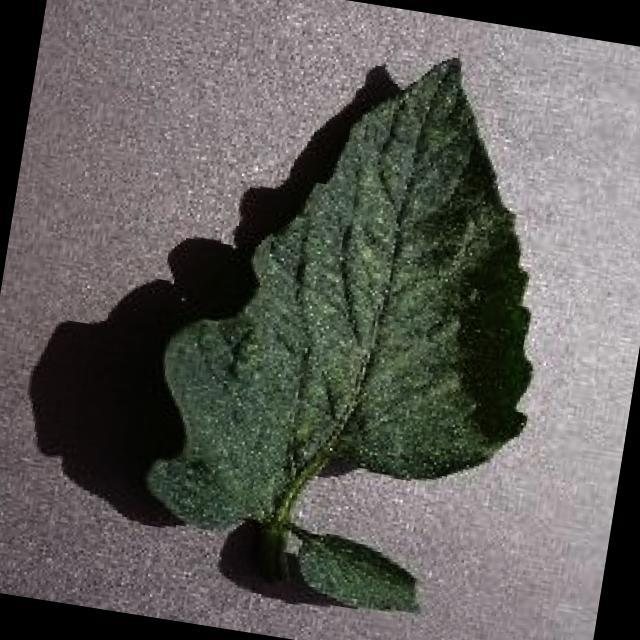Tomato spider mites leaf: (137, 19, 582, 578)
